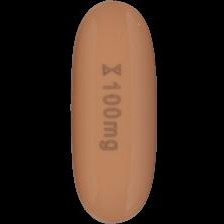0093-5742: (0, 0, 224, 224)
